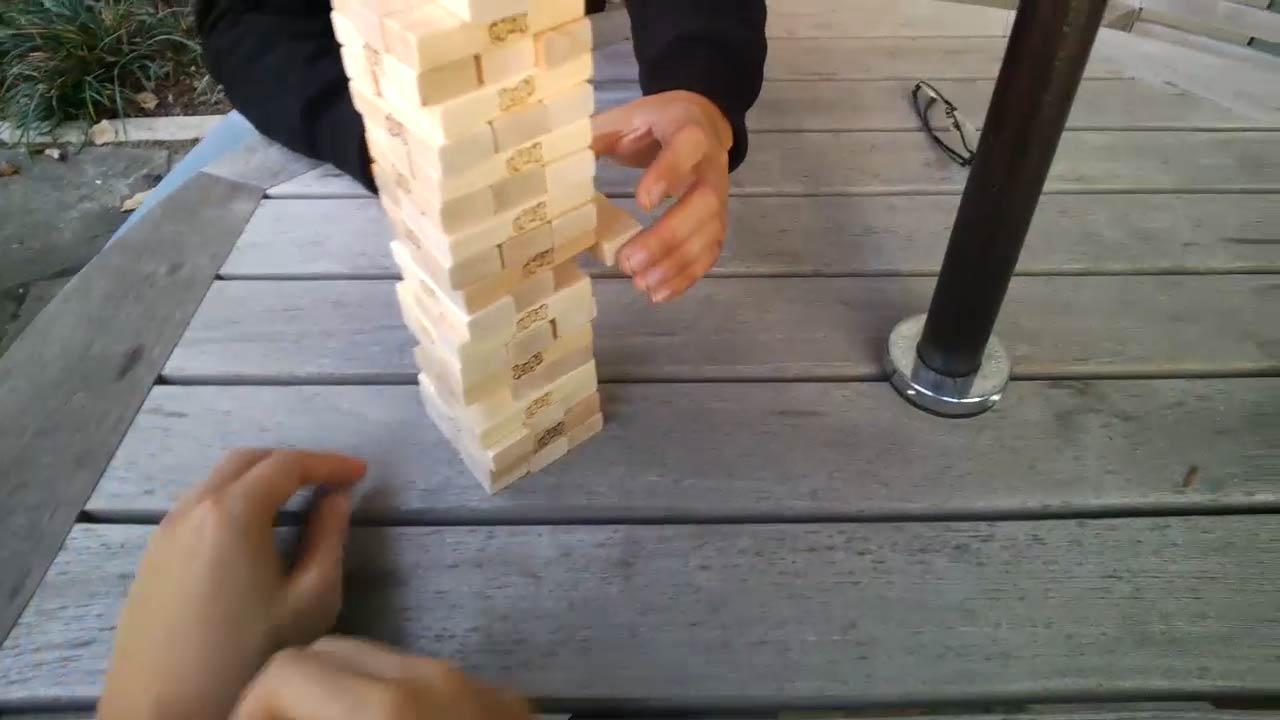hand: (117, 442, 361, 639), (592, 88, 737, 312), (223, 637, 546, 720)
